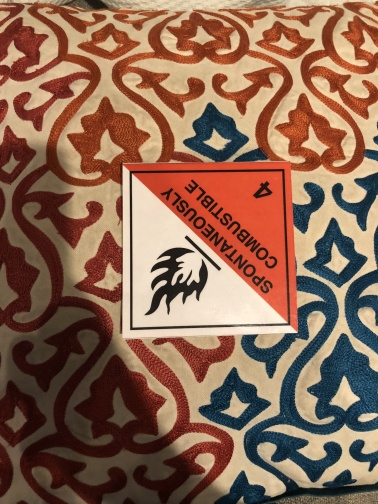SpontaneouslyCombustible: (122, 162, 300, 335)
